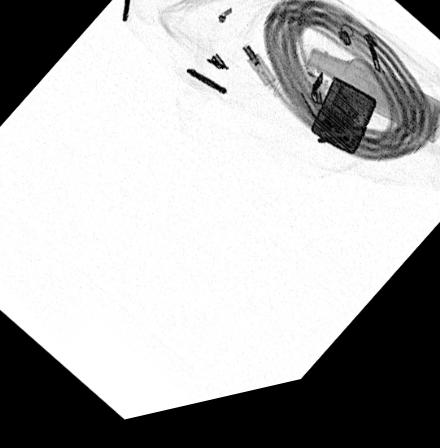Lighter: (310, 93, 377, 172)
